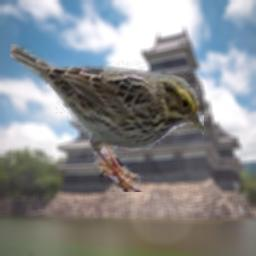Sparrow: (10, 44, 204, 192)
